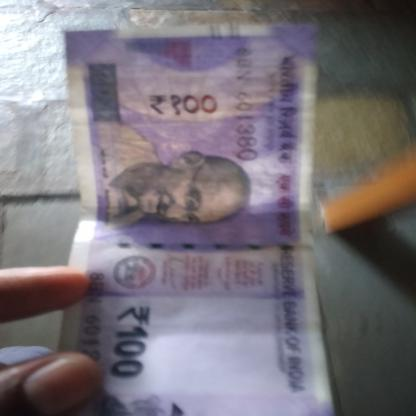New100Front: (76, 28, 310, 416)
